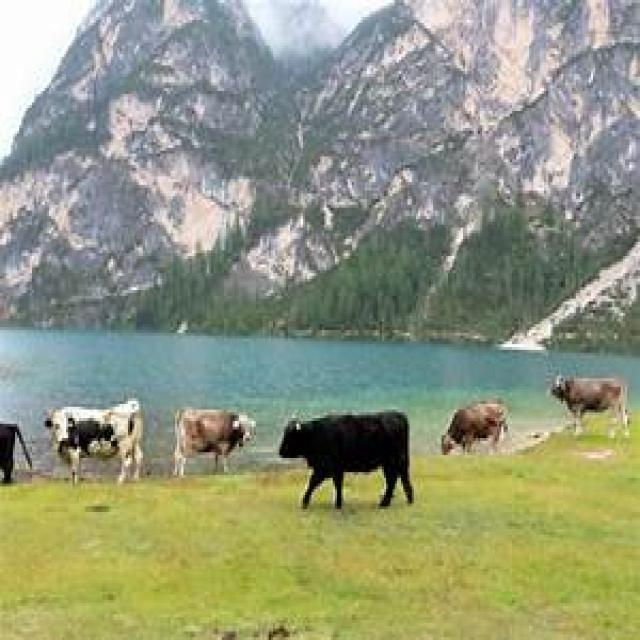cow: (279, 415, 414, 508), (45, 400, 142, 482), (174, 410, 255, 474), (551, 377, 628, 429), (441, 402, 508, 454)
